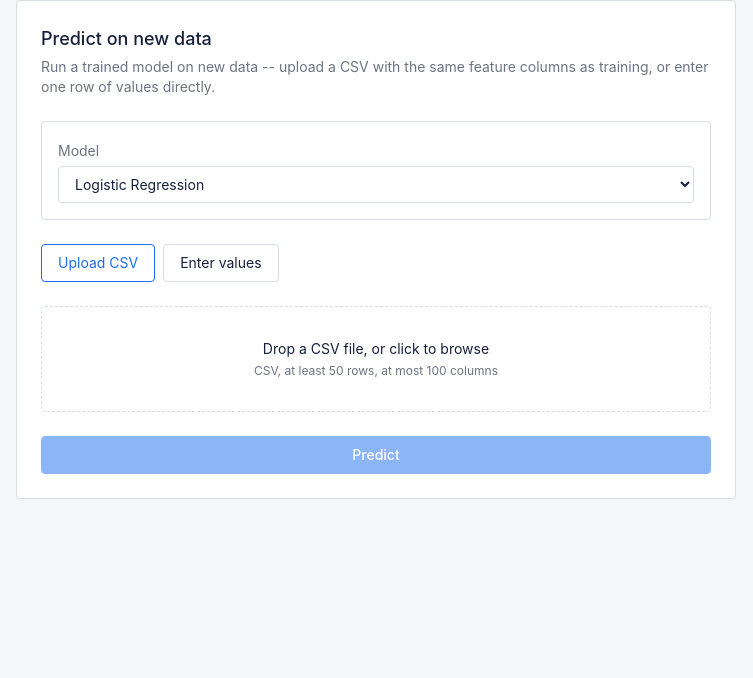
Test: PredictScreen › names the missing fields in manual mode before sending any request
This screenshot has width=753, height=678.
Click the button "Enter values": (221,263) [163,244,279,282]
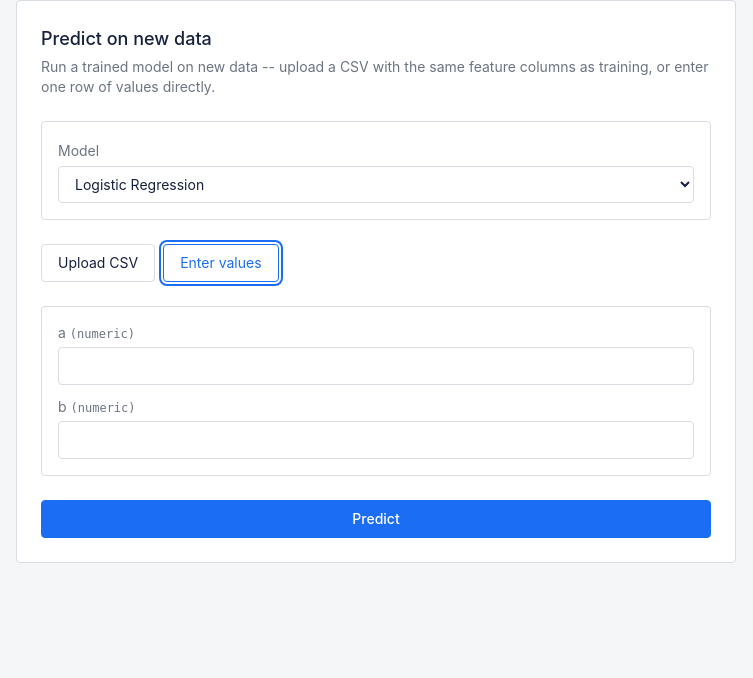
In the number field labelled "a (numeric)": (376,366) [58,347,694,385], type "1"
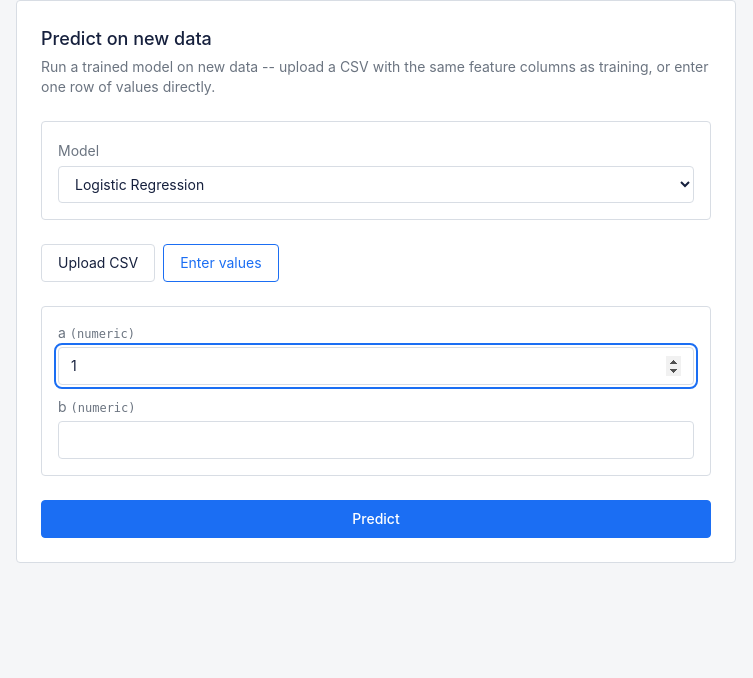
Click the button "Predict": (376,519) [41,500,711,538]
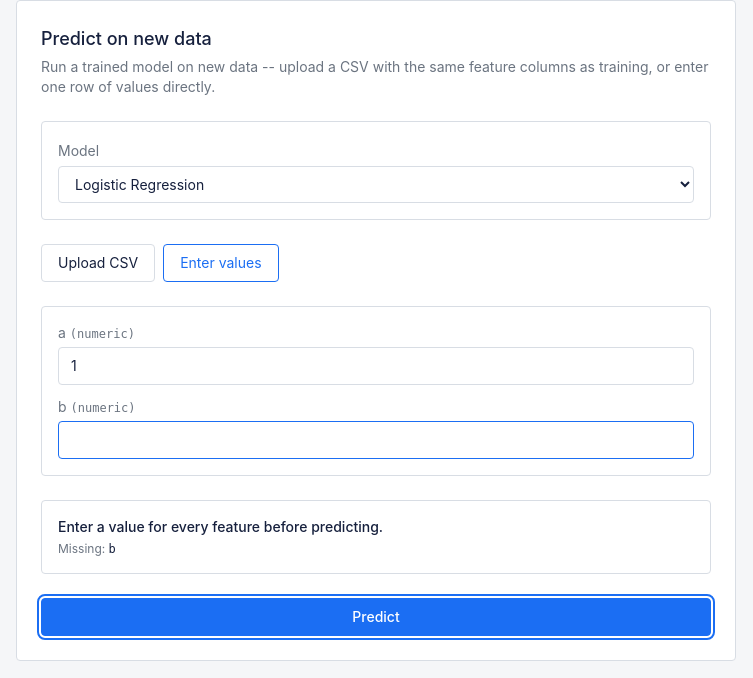
Check: the text "Enter a value for every feature before predicting." is shown, box [58,518,383,535]
Check: the text "Missing: b" is shown, box [58,541,116,556]
